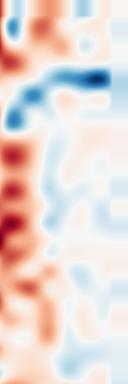filament: (0, 134, 48, 270)
